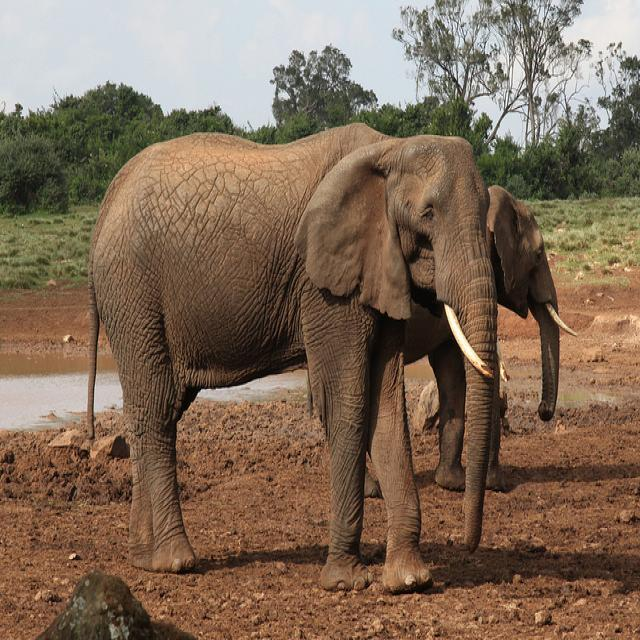Elephant: (85, 122, 507, 592)
